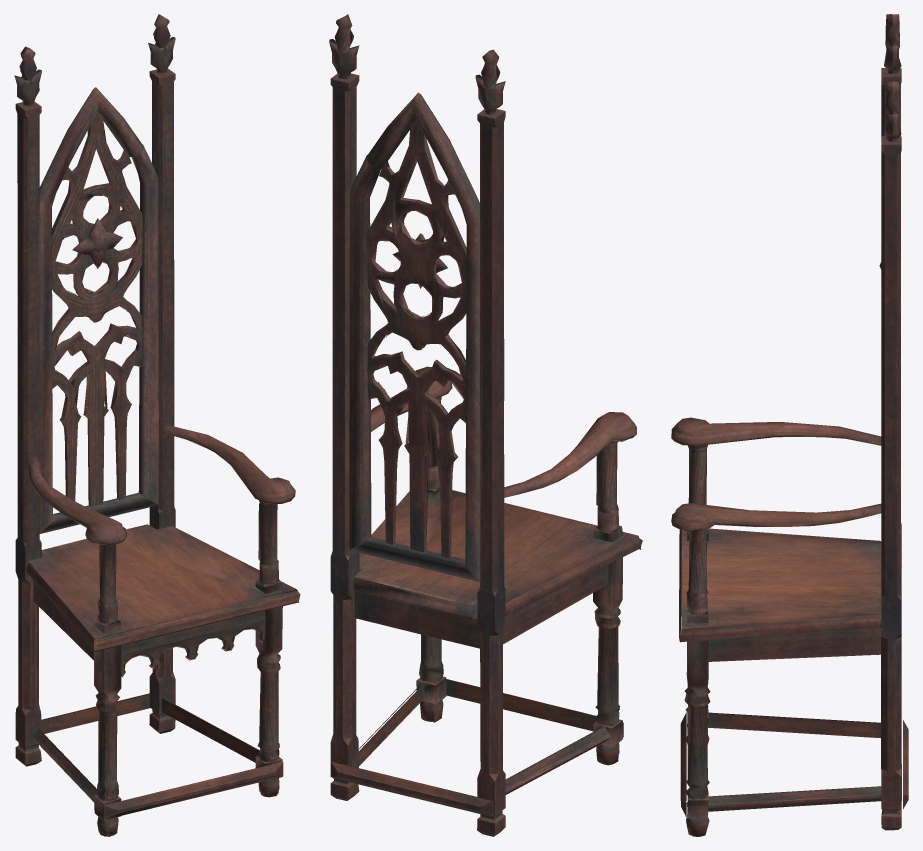
File: WoodenChair_01.glb
3 renders of one model, left to right at view 1: azimuth 30°, elevation 25°; view 2: azimuth 150°, elevation 25°; view 3: azimuth 270°, elevation 25°, orthographic. The views are drawn at different scales.
Visible parts, largest first — view 1: WoodenChair_01; view 2: WoodenChair_01; view 3: WoodenChair_01.
Boxes of the visible parts, x1,y1,x2,y2 form: WoodenChair_01: (14,14,300,836); WoodenChair_01: (329,14,642,836); WoodenChair_01: (671,14,908,836).
Bounding box in the file's own units: 0.6897 × 2.27 × 0.6561.
1 material, 1 textured.
